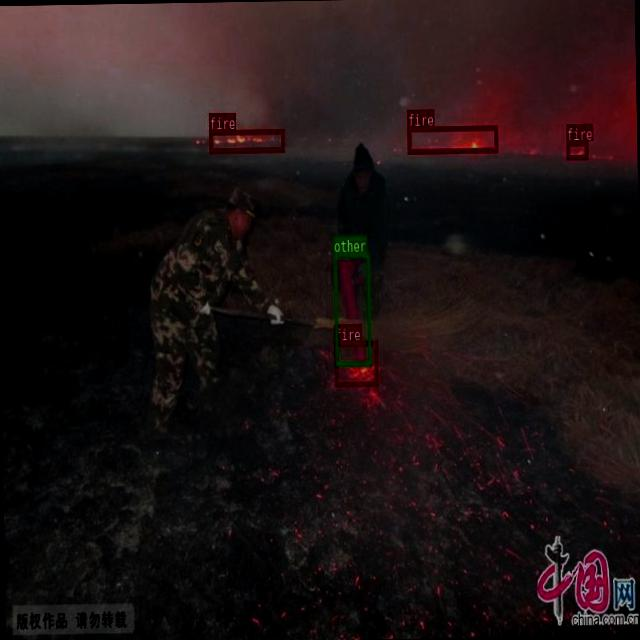fire: (406, 124, 496, 153), (333, 339, 378, 386), (208, 128, 283, 152), (566, 140, 587, 158)
